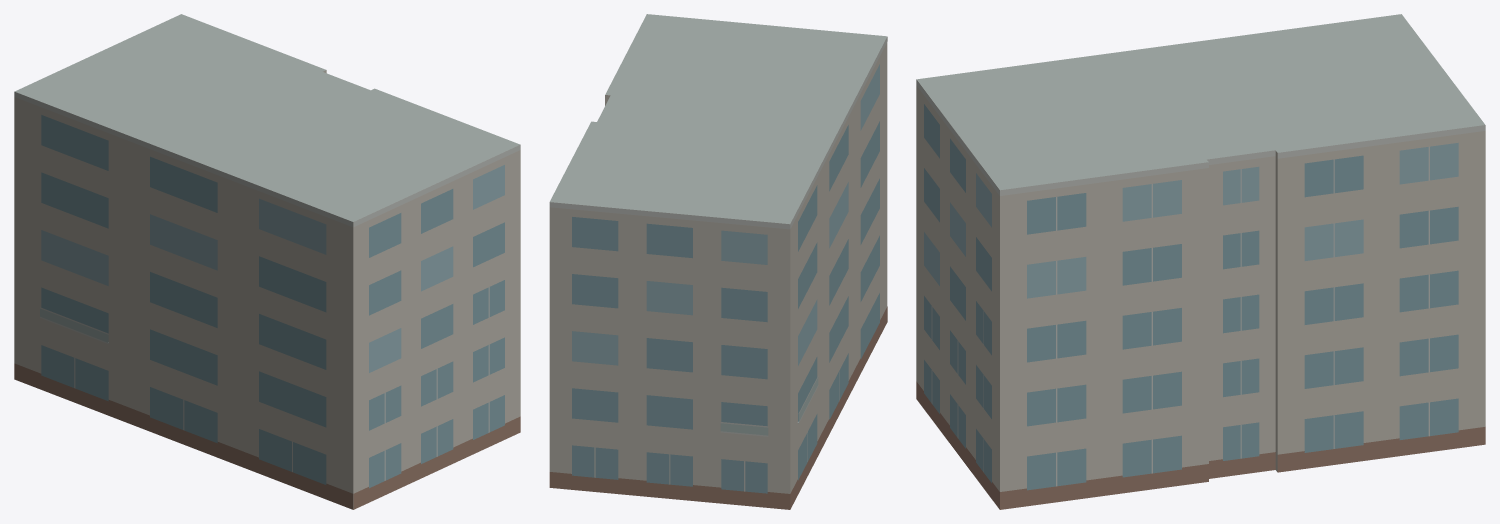
File: survey-upis-32925590.glb
3 views of the same model, side by side, from view 1: azimuth 30°, elevation 25°; view 2: azimuth 150°, elevation 25°; view 3: azimuth 270°, elevation 25° (orthographic). The views are drawn at different scales.
Parts seen in each view (by area): view 1: survey-upis-32925590.tmp; view 2: survey-upis-32925590.tmp; view 3: survey-upis-32925590.tmp.
Boxes of the visible parts, x1=… form: survey-upis-32925590.tmp: x1=14, y1=14, x2=520, y2=509; survey-upis-32925590.tmp: x1=549, y1=14, x2=887, y2=509; survey-upis-32925590.tmp: x1=916, y1=14, x2=1485, y2=509.
Size of the model in its own units: 15.68 by 13.25 by 21.39.
